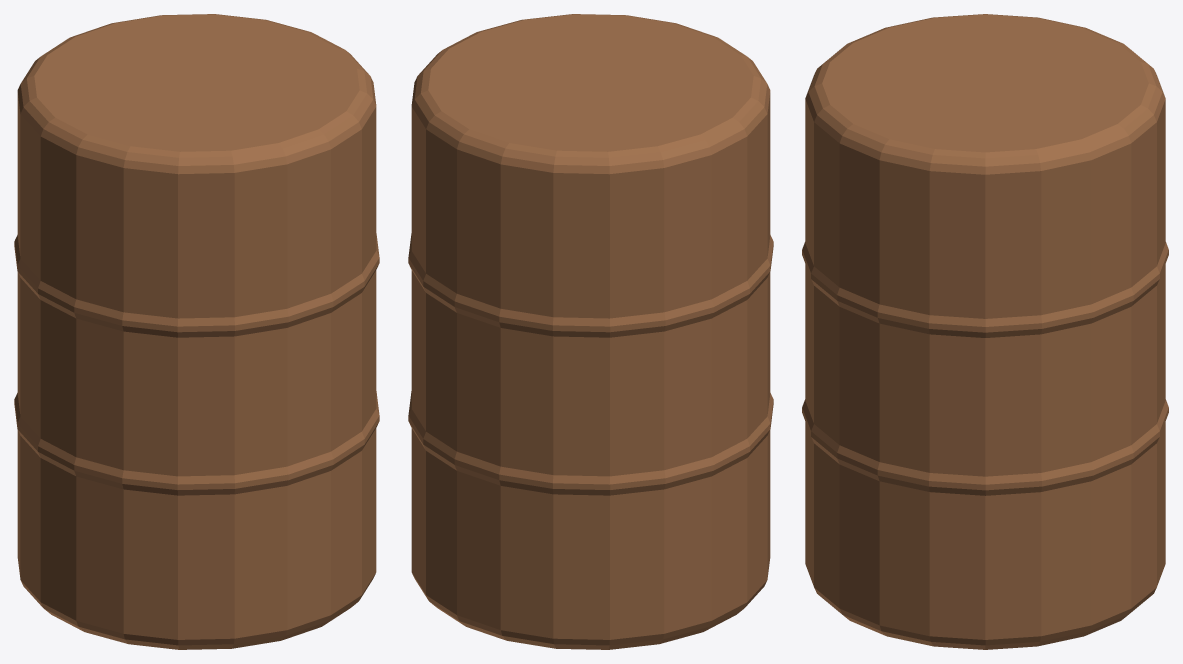
File: SM_DST_Prop_Barrel_Metal_Closed.fbx
3 views of the same model, side by side, from view 1: azimuth 30°, elevation 25°; view 2: azimuth 150°, elevation 25°; view 3: azimuth 270°, elevation 25° (orthographic).
Visible parts, largest first — view 1: SM_DST_Prop_Barrel_Metal_Closed.002; view 2: SM_DST_Prop_Barrel_Metal_Closed.002; view 3: SM_DST_Prop_Barrel_Metal_Closed.002.
Part boxes in pixels (left/top/right/bottom): SM_DST_Prop_Barrel_Metal_Closed.002: left=14, top=14, right=379, bottom=649; SM_DST_Prop_Barrel_Metal_Closed.002: left=408, top=14, right=773, bottom=649; SM_DST_Prop_Barrel_Metal_Closed.002: left=802, top=14, right=1168, bottom=649.
Size of the model in its own units: 0.59 by 0.88 by 0.59.
